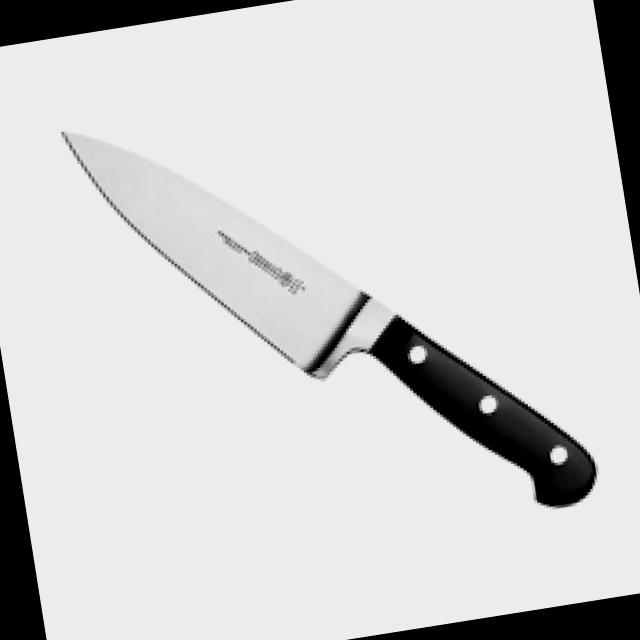knife: (61, 130, 599, 508)
